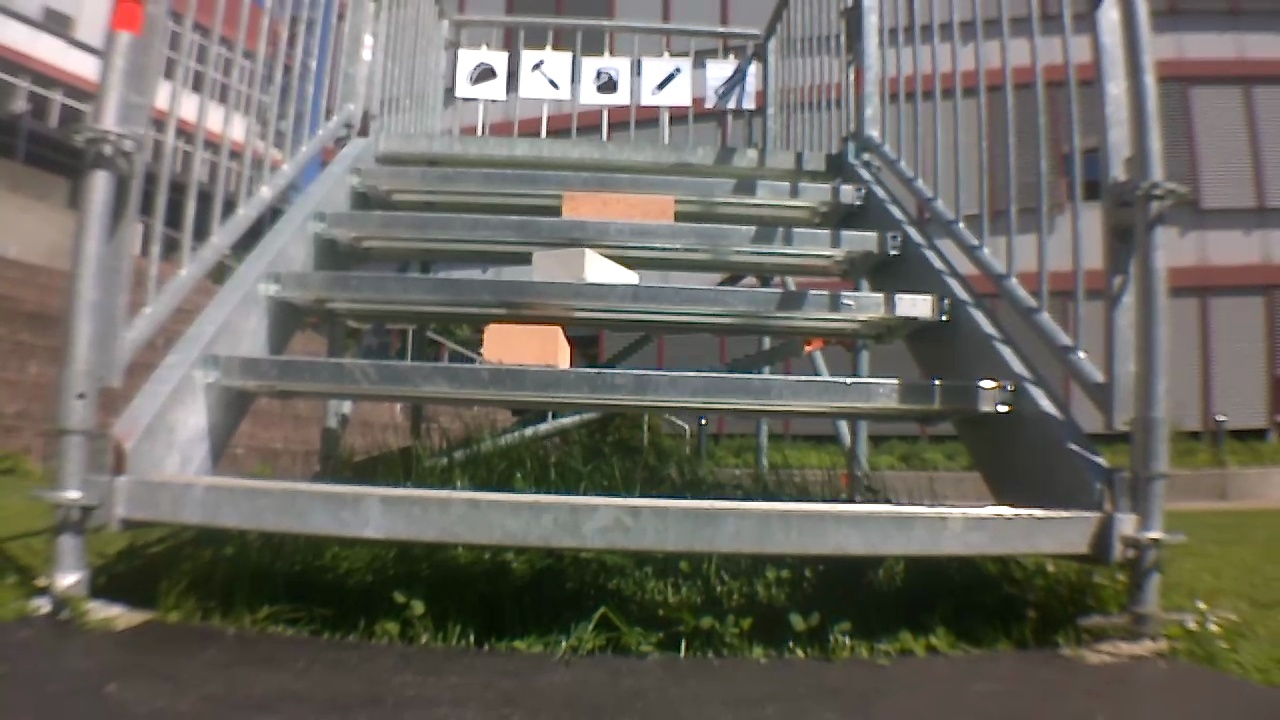brick: (528, 242, 649, 284), (472, 322, 575, 367), (560, 193, 679, 225)
edge: (195, 347, 1027, 424), (102, 507, 1105, 539), (260, 272, 958, 316), (311, 211, 917, 242), (337, 172, 868, 197), (370, 141, 855, 165)
stairs: (46, 0, 1130, 616)
steps: (76, 149, 1069, 564)
